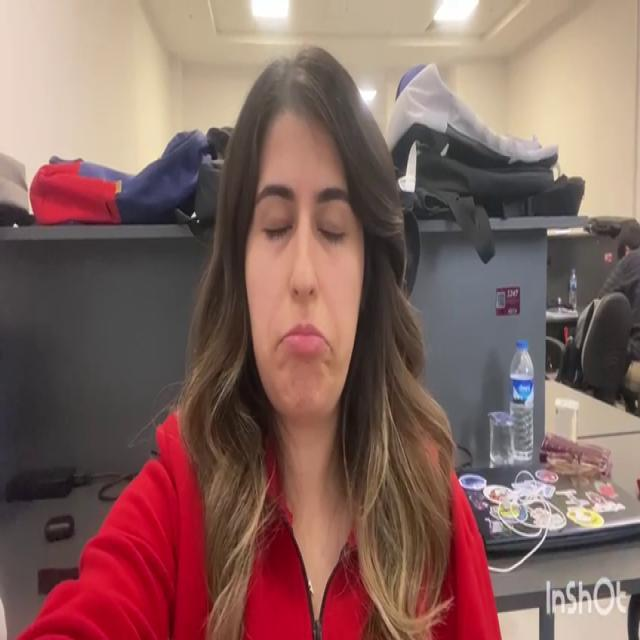sad: (245, 109, 366, 429)
